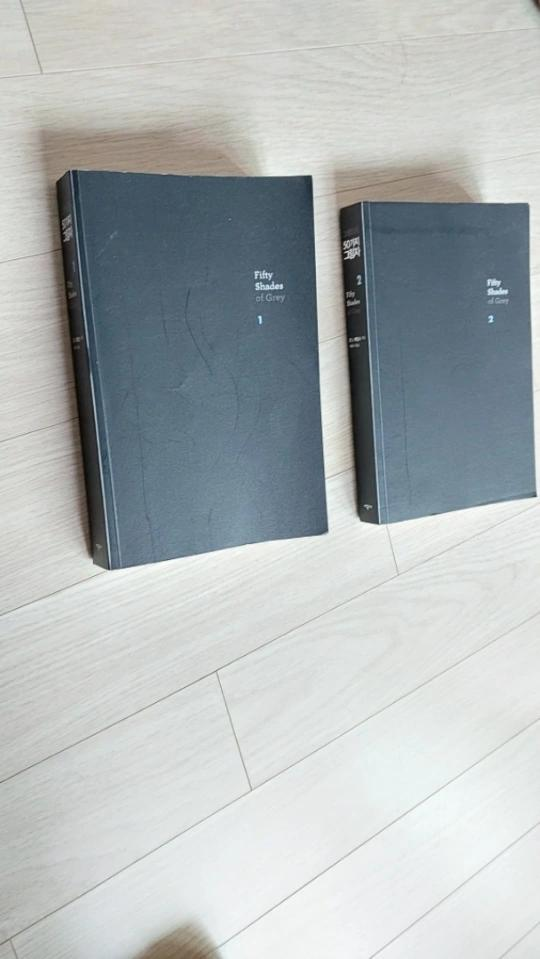book: (55, 167, 328, 571), (338, 198, 536, 525)
